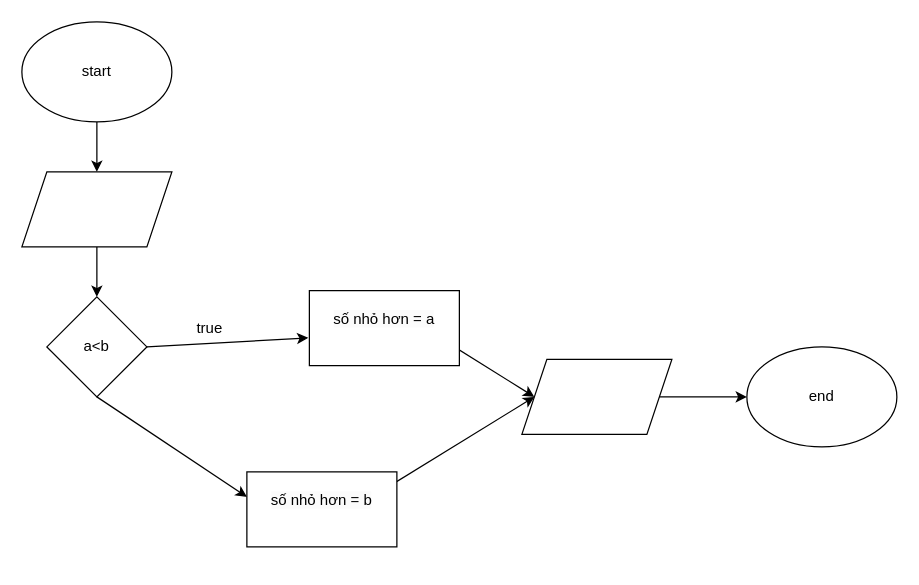
Some shapes in this 919 by 585 pixel diagram are drawn without their labels. The shapes that lost their labels are listed below. From the top down, each one's centre as x and y in pixels, then its label:
At (x=96, y=209): "nhập 2 số: a và b".
At (x=596, y=396): "in số nhỏ hơn".
